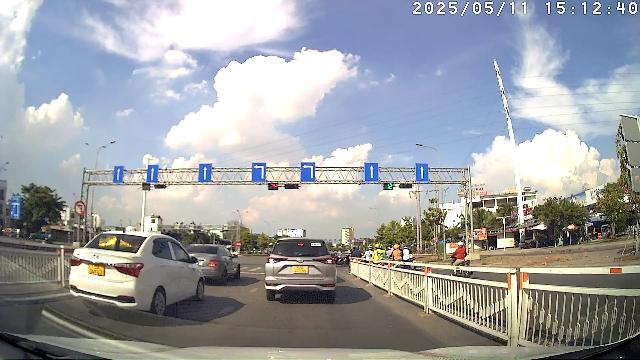123a-cam-re-trai: (74, 200, 86, 215)
